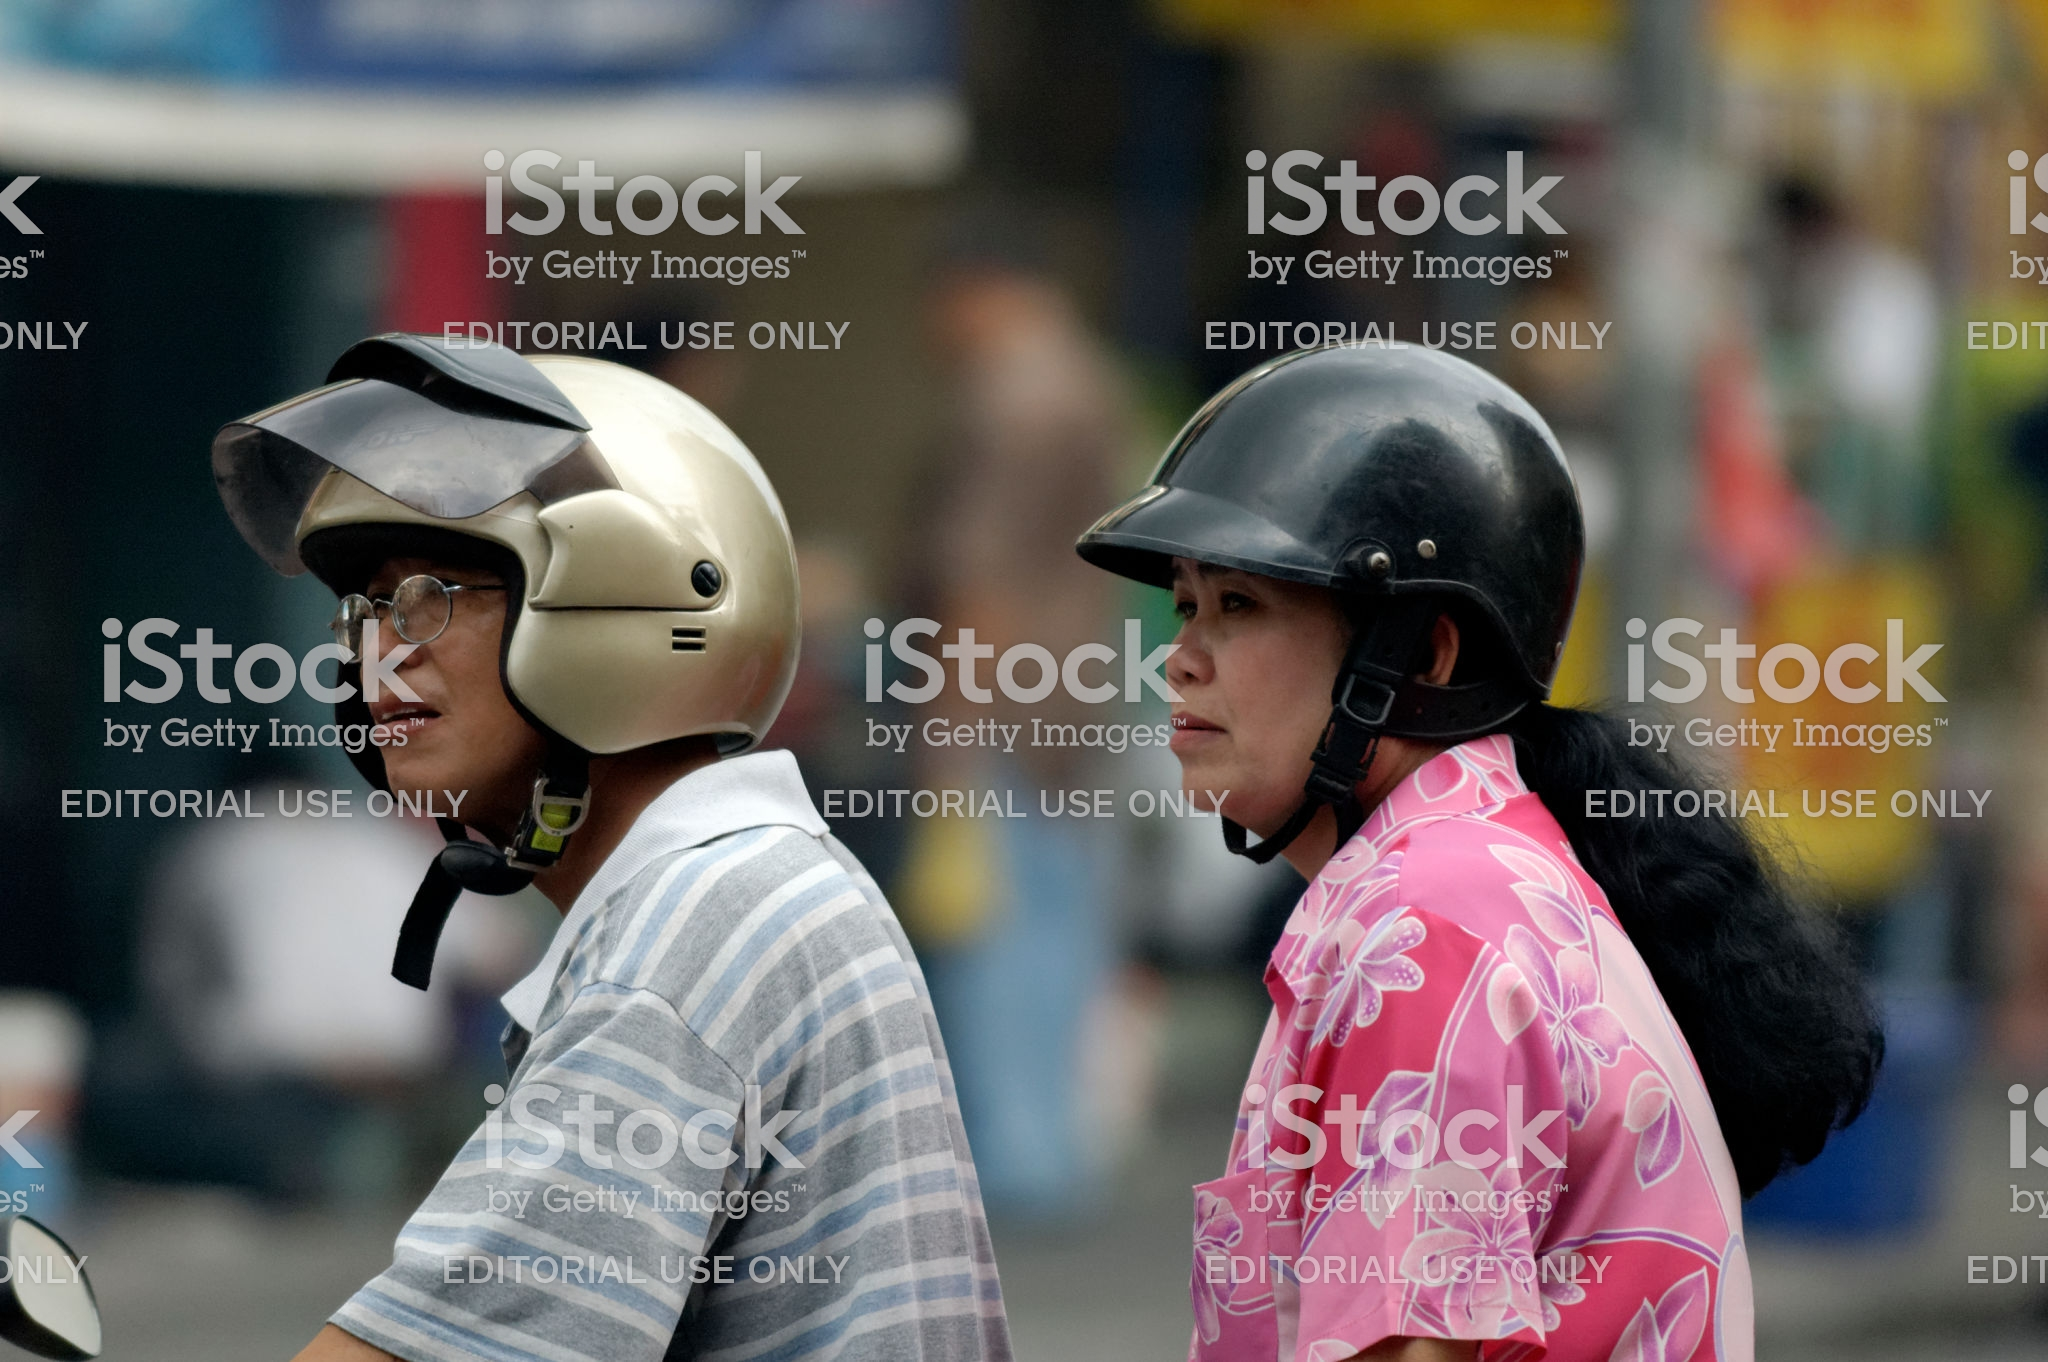helmet: (281, 315, 840, 749), (1156, 315, 1586, 651)
